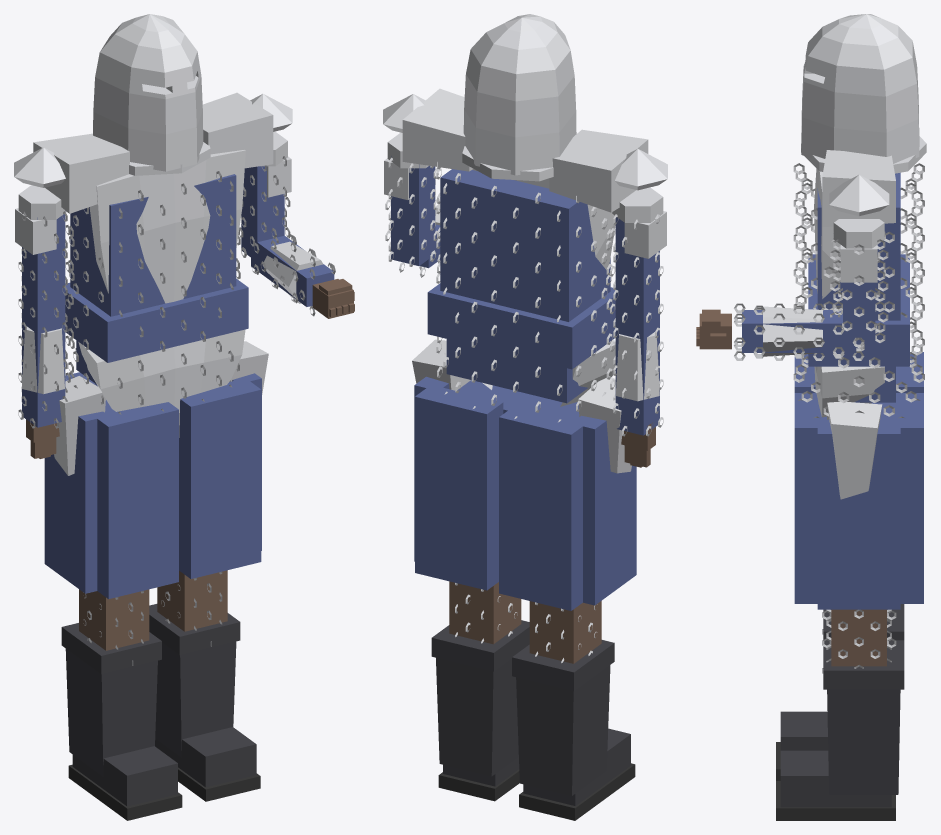
File: avatar-knight.glb
The picture shows the model from 3 angles, left to right: view 1: azimuth 30°, elevation 25°; view 2: azimuth 150°, elevation 25°; view 3: azimuth 270°, elevation 25°; orthographic projection. The views are drawn at different scales.
Parts seen in each view (by area): view 1: AVT_K_Pants_Skirt_FR, AVT_K_Pants_Skirt_FL, AVT_K_Helmet_Shell, AVT_K_Armor_Breastplate, AVT_K_Body_Torso, AVT_K_Pants_WaistBand, AVT_K_Boots_Shaft_L, AVT_K_Armor_Fauld, AVT_K_Pants_Skirt_L, AVT_K_Boots_Shaft_R, AVT_K_Armor_Sleeve_L, AVT_K_Armor_Shoulder_L_Flange (+26 smaller); view 2: AVT_K_Body_Torso, AVT_K_Pants_Skirt_BR, AVT_K_Pants_Skirt_BL, AVT_K_Helmet_Shell, AVT_K_Boots_Shaft_L, AVT_K_Pants_WaistBand, AVT_K_Boots_Shaft_R, AVT_K_Pants_Skirt_L, AVT_K_Armor_Sleeve_L, AVT_K_Armor_Shoulder_L_Flange, AVT_K_Body_Pelvis, AVT_K_Armor_Shoulder_R_Flange (+27 smaller); view 3: AVT_K_Helmet_Shell, AVT_K_Pants_Skirt_R, AVT_K_Boots_Shaft_R, AVT_K_Armor_Chain_Torso, AVT_K_Pants_Skirt_BR, AVT_K_Pants_Skirt_FR, AVT_K_Armor_Tasset_R, AVT_K_Boots_Foot_R, AVT_K_Pants_WaistBand, AVT_K_Armor_Shoulder_R_Flange, AVT_K_Pants_Leg_R, AVT_K_Body_Torso (+20 smaller).
Part boxes in pixels (box(x1,y1,x2,y2)): AVT_K_Pants_Skirt_FR: box(179, 381, 261, 578); AVT_K_Pants_Skirt_FL: box(93, 402, 178, 599); AVT_K_Helmet_Shell: box(93, 14, 203, 171); AVT_K_Armor_Breastplate: box(89, 150, 245, 303); AVT_K_Body_Torso: box(70, 174, 236, 316); AVT_K_Pants_WaistBand: box(65, 279, 248, 362); AVT_K_Boots_Shaft_L: box(65, 649, 157, 776); AVT_K_Armor_Fauld: box(78, 329, 245, 437); AVT_K_Pants_Skirt_L: box(44, 411, 103, 593); AVT_K_Boots_Shaft_R: box(155, 641, 236, 757); AVT_K_Armor_Sleeve_L: box(22, 214, 65, 427); AVT_K_Armor_Shoulder_L_Flange: box(33, 133, 129, 213); AVT_K_Body_Torso: box(440, 169, 610, 321); AVT_K_Pants_Skirt_BR: box(415, 387, 503, 590); AVT_K_Pants_Skirt_BL: box(499, 405, 582, 610); AVT_K_Helmet_Shell: box(463, 14, 576, 175); AVT_K_Boots_Shaft_L: box(516, 665, 610, 795); AVT_K_Pants_WaistBand: box(427, 283, 615, 369); AVT_K_Boots_Shaft_R: box(436, 658, 518, 776); AVT_K_Pants_Skirt_L: box(571, 415, 636, 605); AVT_K_Armor_Sleeve_L: box(615, 217, 659, 435); AVT_K_Armor_Shoulder_L_Flange: box(549, 129, 648, 212); AVT_K_Body_Pelvis: box(446, 339, 587, 403); AVT_K_Armor_Shoulder_R_Flange: box(402, 88, 473, 171); AVT_K_Helmet_Shell: box(801, 14, 919, 163); AVT_K_Pants_Skirt_R: box(817, 422, 900, 609); AVT_K_Boots_Shaft_R: box(827, 689, 900, 794); AVT_K_Armor_Chain_Torso: box(793, 163, 924, 418); AVT_K_Pants_Skirt_BR: box(891, 393, 923, 603); AVT_K_Pants_Skirt_FR: box(794, 393, 826, 603); AVT_K_Armor_Tasset_R: box(827, 401, 882, 499); AVT_K_Boots_Foot_R: box(780, 750, 891, 807); AVT_K_Pants_WaistBand: box(808, 254, 909, 366); AVT_K_Armor_Shoulder_R_Flange: box(822, 150, 895, 227); AVT_K_Pants_Leg_R: box(831, 609, 886, 666); AVT_K_Body_Torso: box(817, 172, 900, 320).
Size of the model in its own units: 0.71 by 1.85 by 0.4985.
